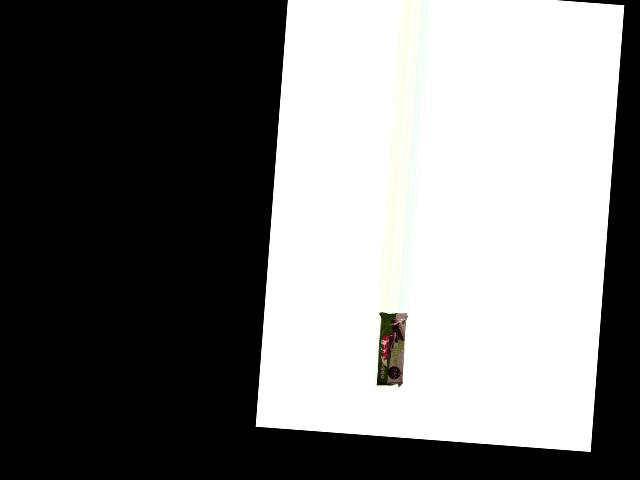chocolate: (374, 311, 410, 389)
